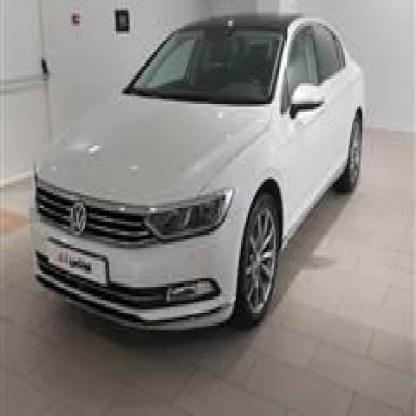Car: (16, 0, 383, 338)
